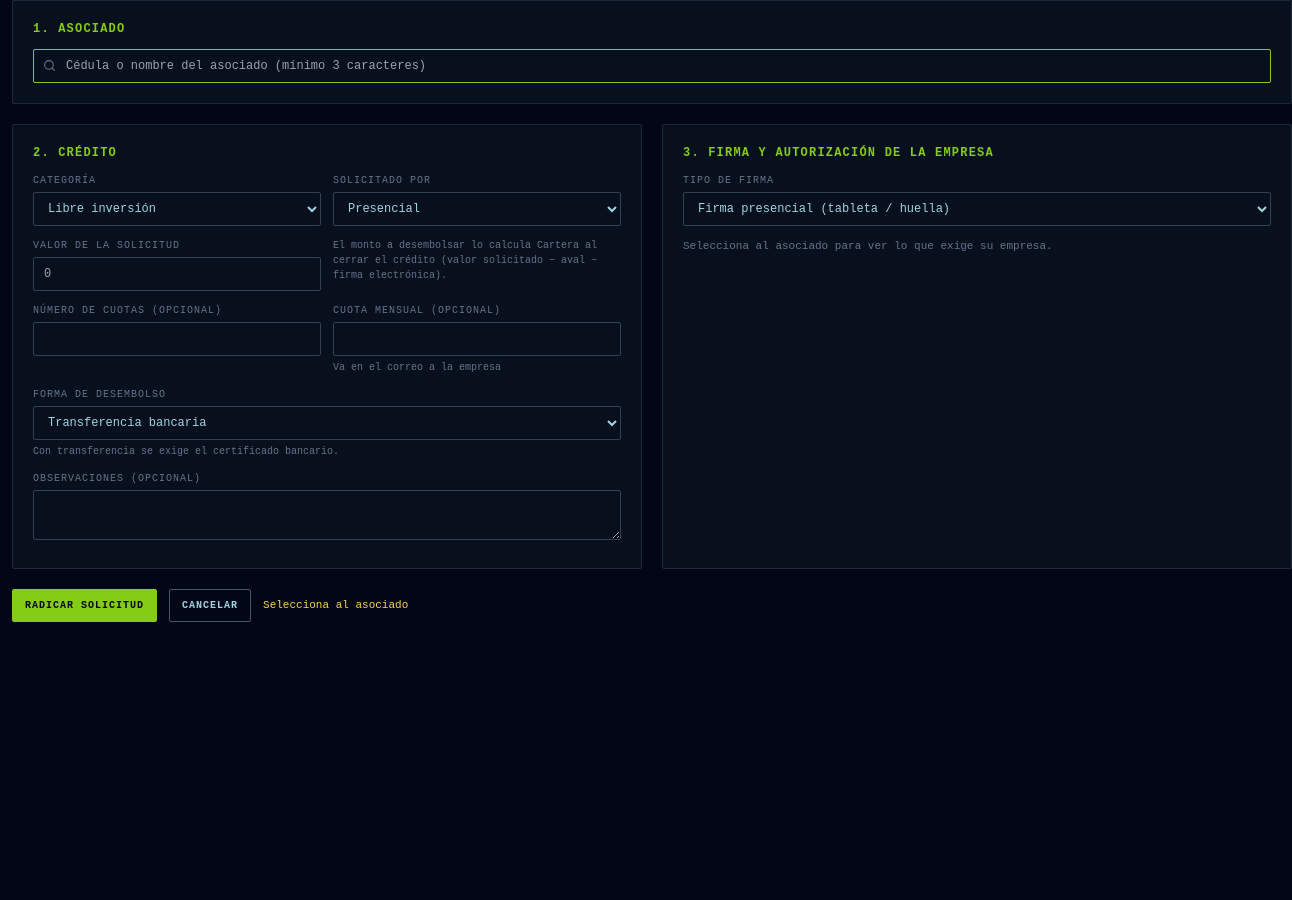
Test case: Nueva solicitud — asociado › política de la empresa: no exige autorización
Type "ANA" into the field named "Buscar asociado" at [652, 66], box [33,49,1271,83]
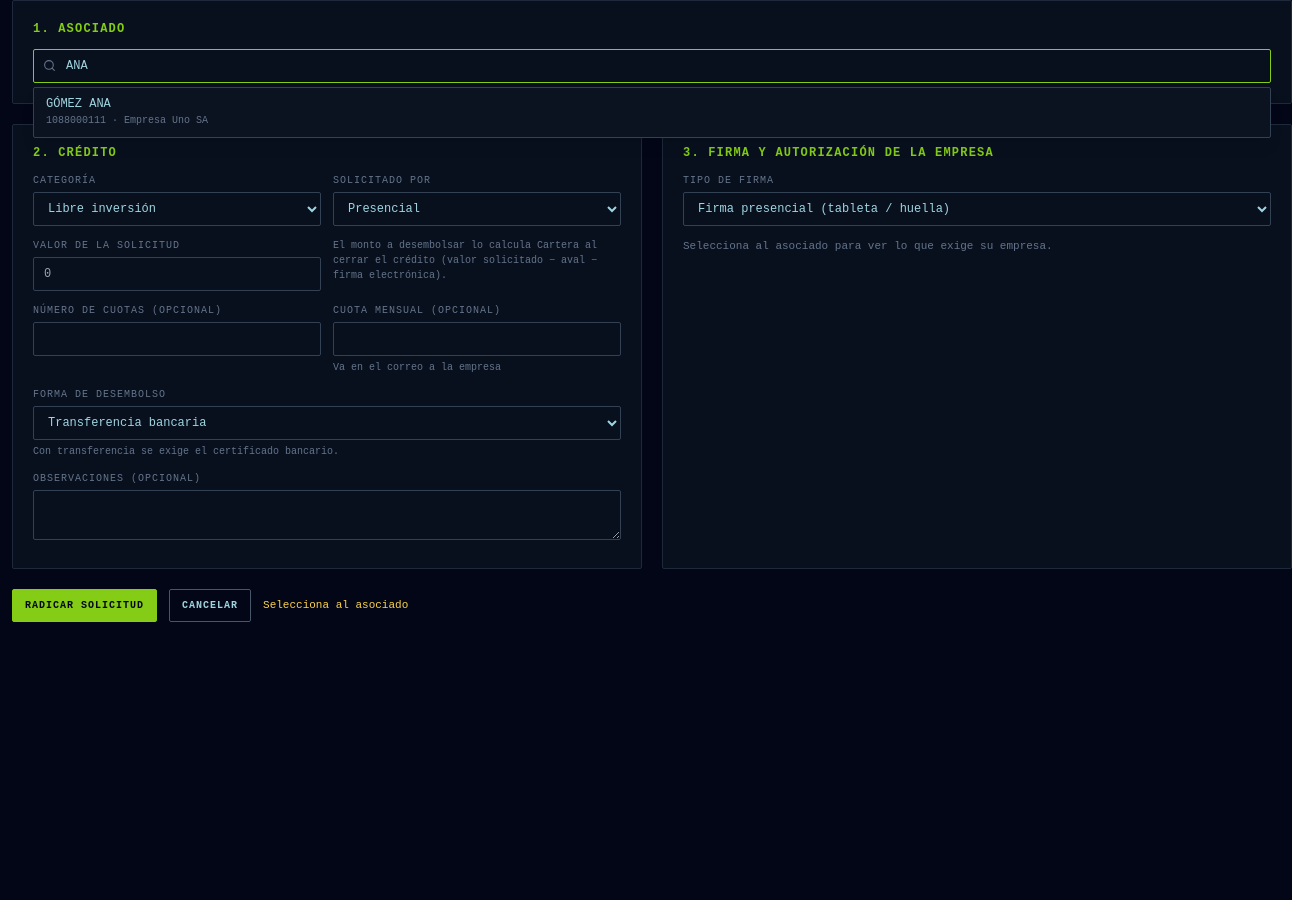
Click the button "GÓMEZ ANA 1088000111 · Empresa Uno SA" at [64, 104], box [34,88,1270,137]
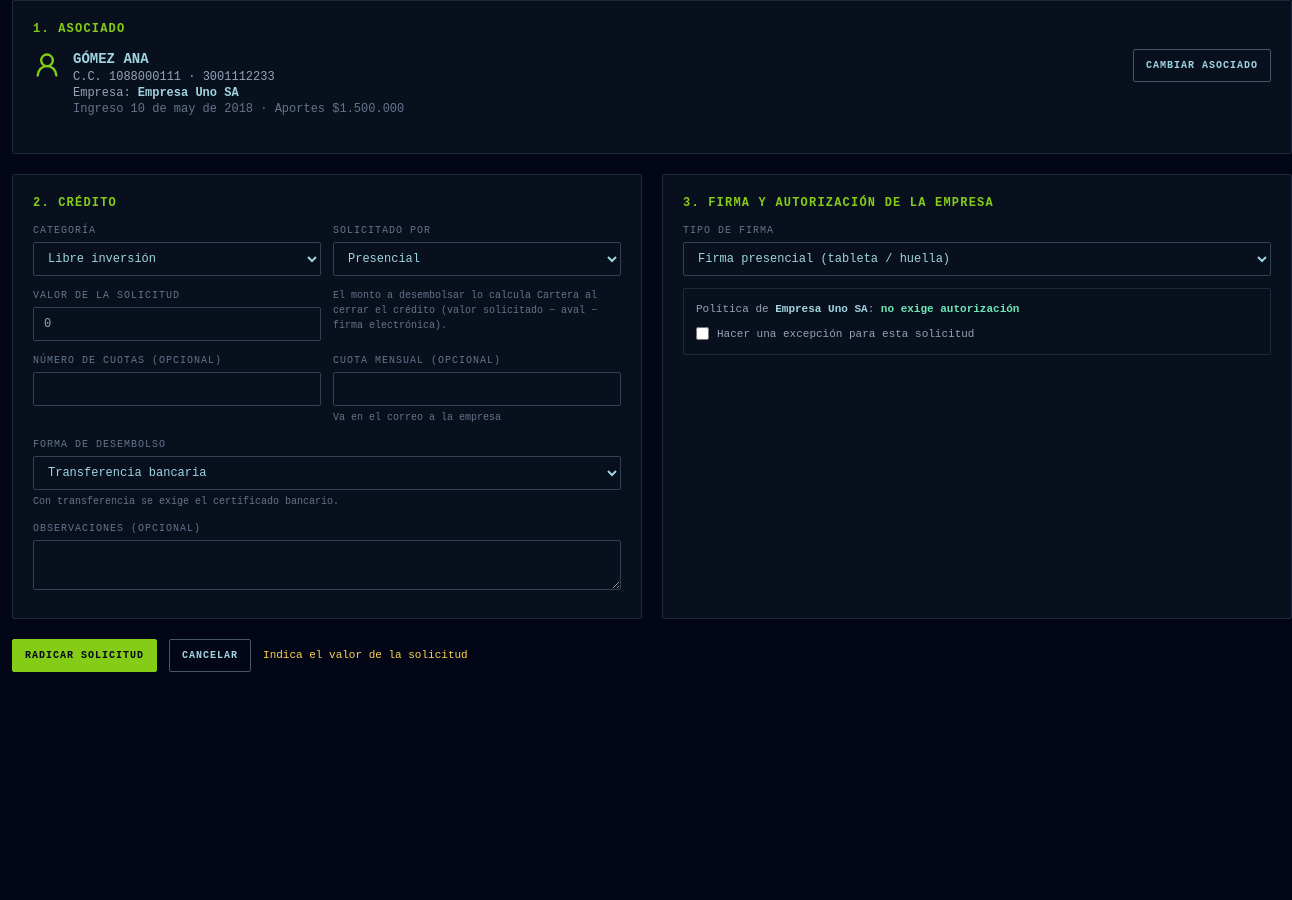
Check: the button "CAMBIAR ASOCIADO" is shown, box [1133,49,1271,82]
Check: the text "no exige autorización" is shown, box [881,303,1019,315]
